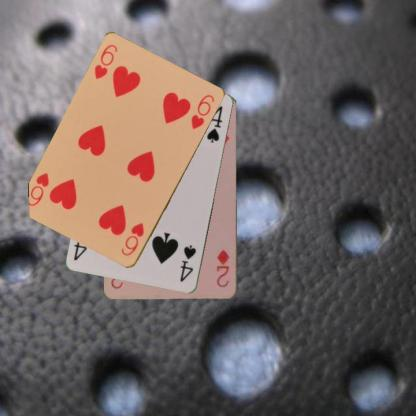2d: (214, 247, 231, 289)
4s: (178, 242, 198, 284)
6h: (91, 42, 119, 81), (118, 220, 146, 258)
